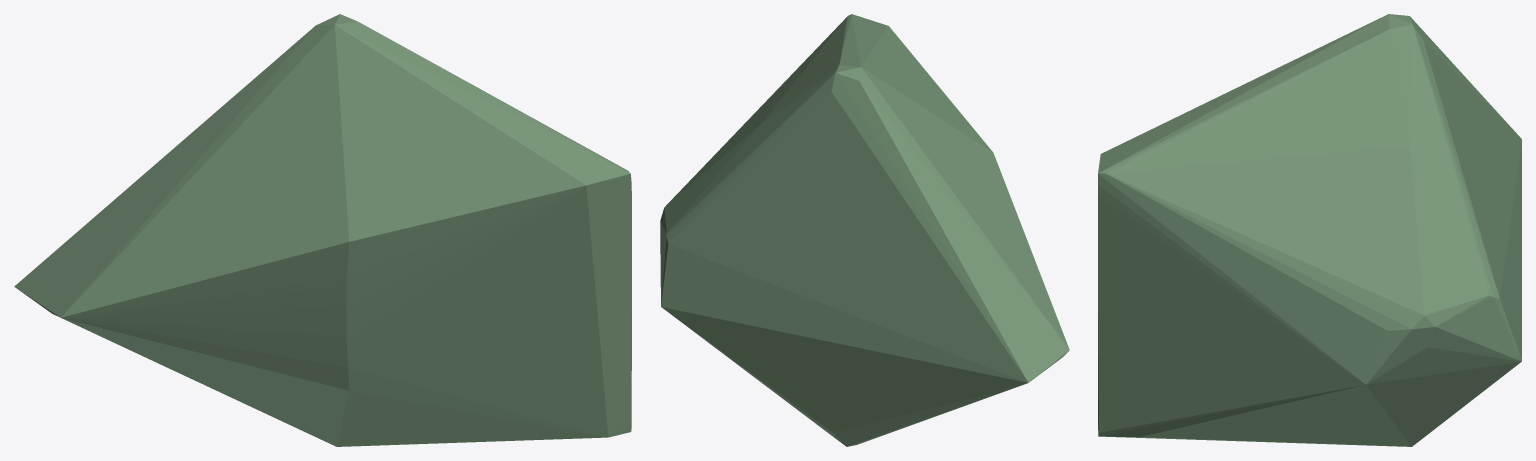
The model's file is equipment_bench_vise_a01.glb.
The picture shows the model from 3 angles, left to right: view 1: azimuth 30°, elevation 25°; view 2: azimuth 150°, elevation 25°; view 3: azimuth 270°, elevation 25°; orthographic projection. The views are drawn at different scales.
Visible parts, largest first — view 1: geometry_0; view 2: geometry_0; view 3: geometry_0.
Part boxes in pixels (bbox=[...]): geometry_0: bbox=[14, 14, 631, 446]; geometry_0: bbox=[660, 14, 1069, 446]; geometry_0: bbox=[1098, 14, 1521, 446].
Size of the model in its own units: 0.4793 by 0.4083 by 0.3642.
